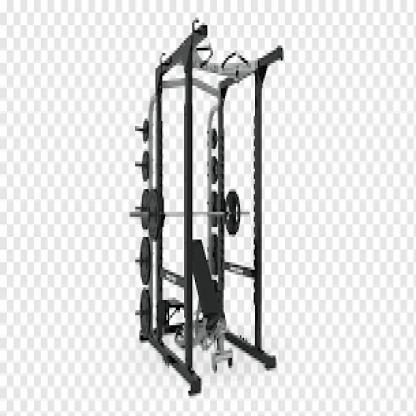smith machine: (129, 18, 284, 396)
